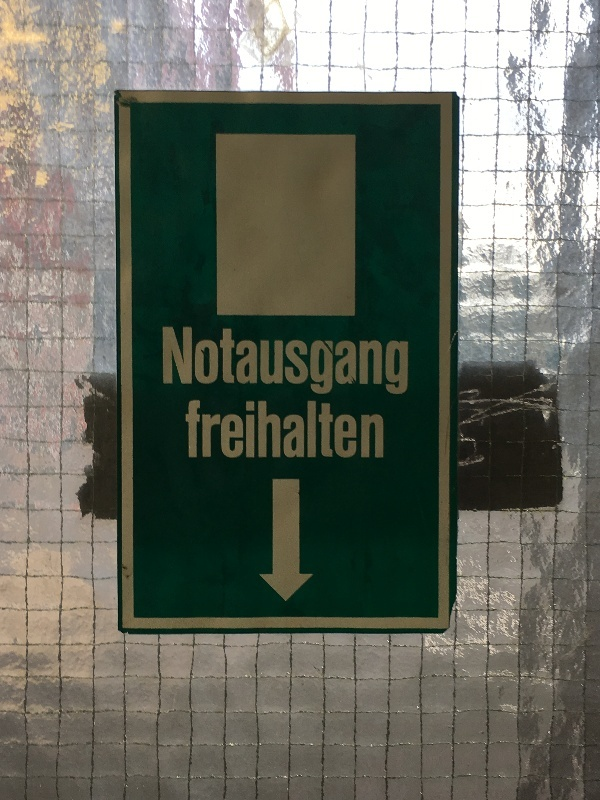text: (177, 327, 192, 396), (193, 327, 208, 396), (209, 327, 224, 396), (225, 327, 240, 396), (241, 327, 256, 396), (257, 327, 272, 396), (273, 327, 288, 396), (289, 327, 304, 396), (305, 327, 320, 396), (321, 327, 336, 396), (337, 327, 352, 396), (353, 327, 368, 396), (369, 327, 384, 396), (385, 327, 400, 396), (162, 327, 176, 396), (193, 398, 208, 461), (209, 398, 224, 461), (225, 398, 240, 461), (241, 398, 256, 461), (257, 398, 272, 461), (273, 398, 288, 461), (289, 398, 304, 461), (305, 398, 320, 461), (321, 398, 336, 461), (337, 398, 352, 461), (353, 398, 368, 461), (369, 398, 384, 461), (401, 327, 409, 396), (186, 398, 192, 461)
